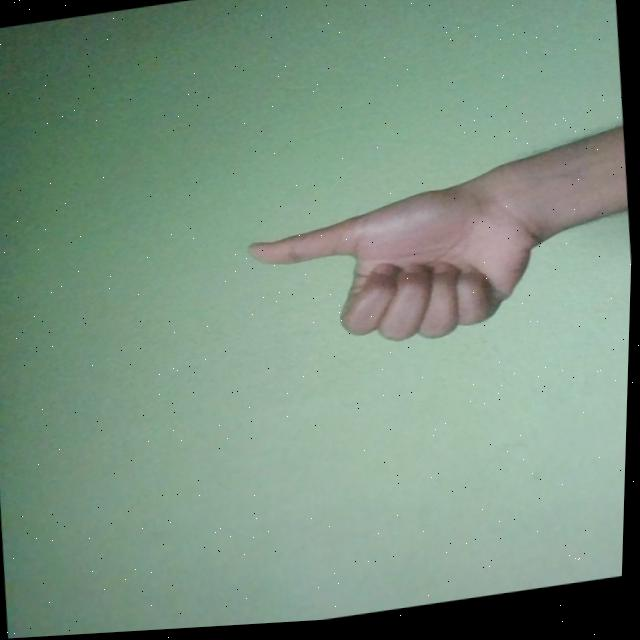Good Job: (241, 176, 554, 370)
